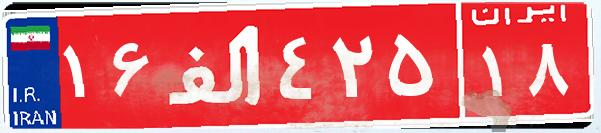1: (57, 26, 110, 107), (475, 38, 525, 113)
2: (330, 28, 385, 110)
4: (273, 28, 330, 110)
5: (385, 28, 445, 110)
6: (110, 28, 158, 105)
8: (525, 38, 570, 115)
الف: (158, 15, 273, 115)
